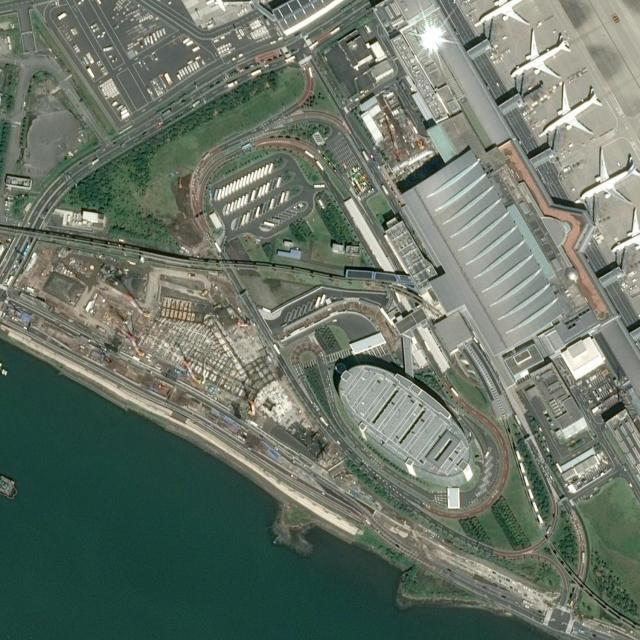Aircraft: (571, 146, 640, 203), (535, 87, 601, 135), (507, 29, 570, 79), (606, 204, 640, 258), (473, 0, 542, 23)
